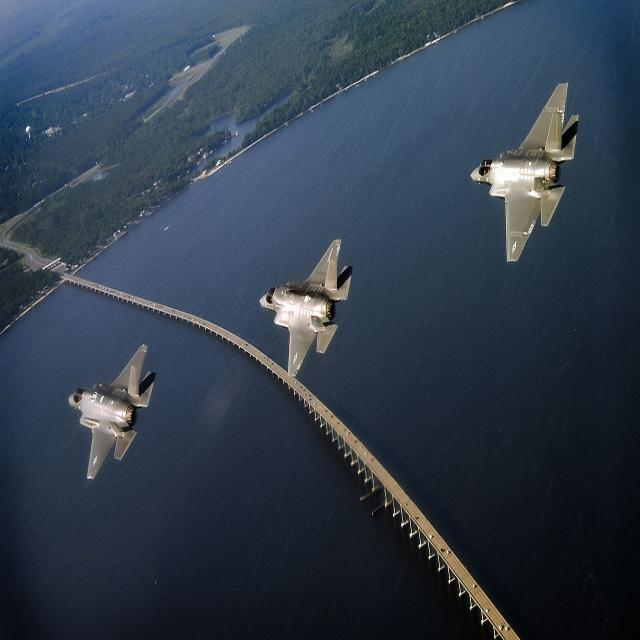MIL_Plane: (259, 238, 353, 378), (52, 343, 140, 480), (491, 81, 557, 263)
